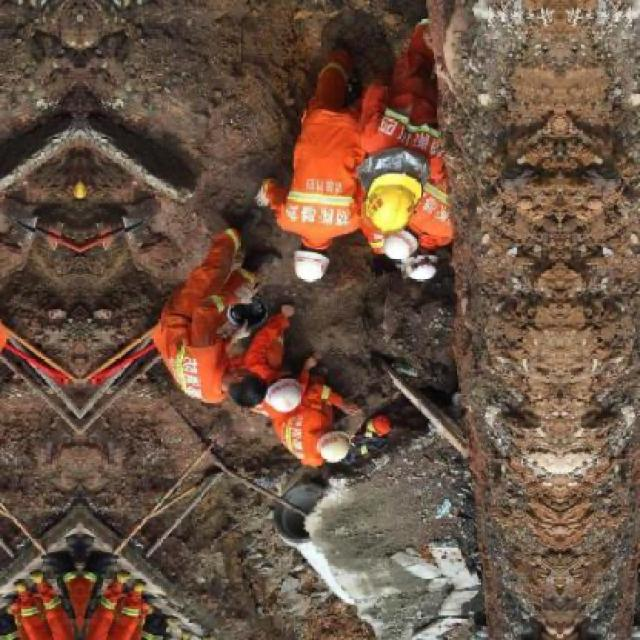con casco: (251, 215, 341, 301), (337, 162, 429, 237), (285, 416, 381, 470), (339, 225, 421, 282), (374, 252, 449, 314), (243, 388, 303, 428)
sin casco: (197, 365, 249, 420)
